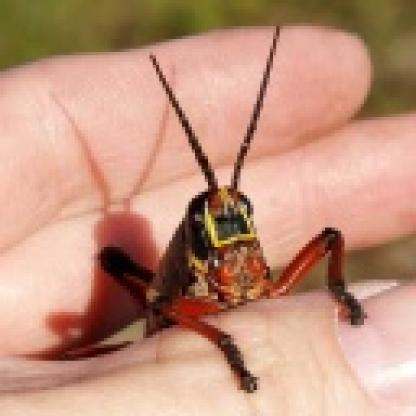grasshopper: (99, 53, 372, 392)
